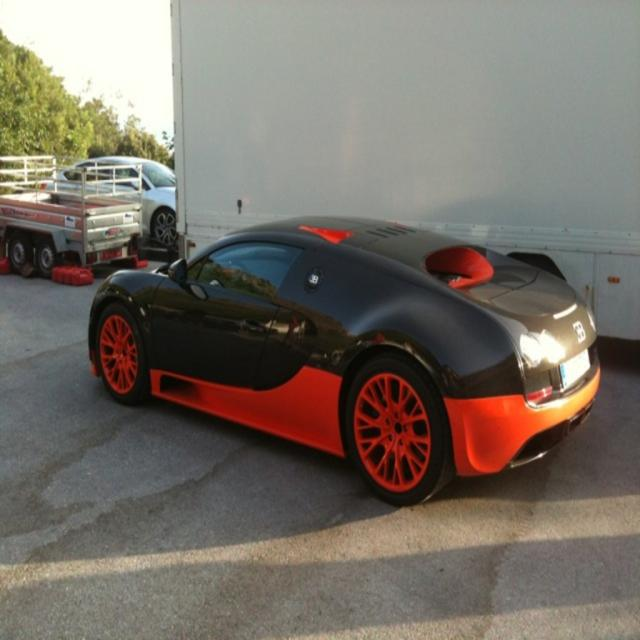car: (85, 212, 600, 507)
